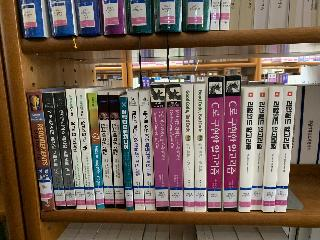book-spine: (26, 88, 55, 212), (273, 85, 297, 213), (221, 75, 242, 212), (42, 92, 66, 211), (204, 77, 224, 212), (262, 86, 283, 213), (54, 92, 76, 210), (66, 88, 87, 210), (165, 84, 185, 211), (76, 89, 96, 210), (151, 84, 170, 211), (250, 87, 268, 211), (127, 91, 145, 210), (239, 87, 256, 212), (139, 90, 156, 210), (97, 91, 114, 209), (108, 91, 125, 209), (88, 92, 105, 209), (118, 97, 134, 211), (181, 84, 195, 212), (194, 84, 207, 212)
